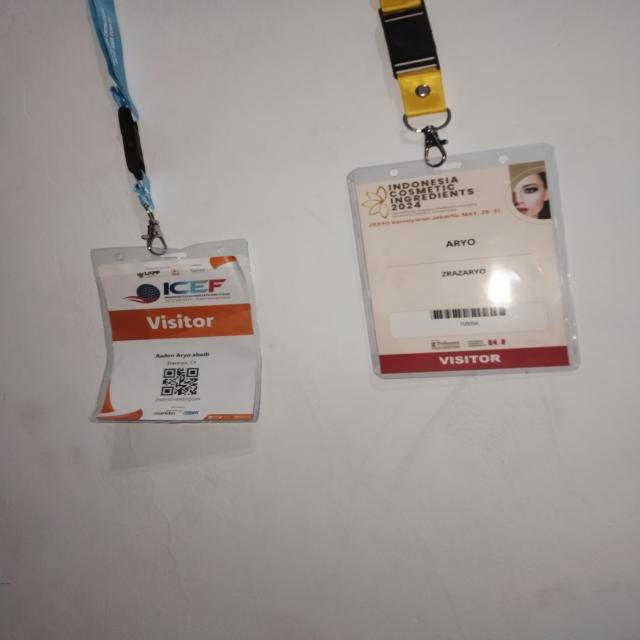ID_card: (345, 142, 581, 379), (88, 239, 262, 424)
